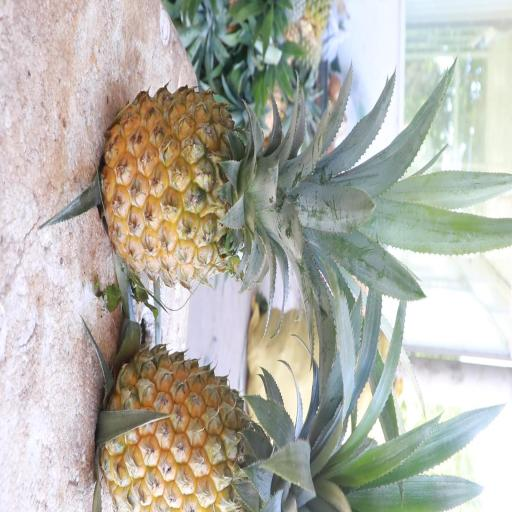Pineapple - v8 v1: (99, 81, 331, 295), (95, 338, 342, 512)
